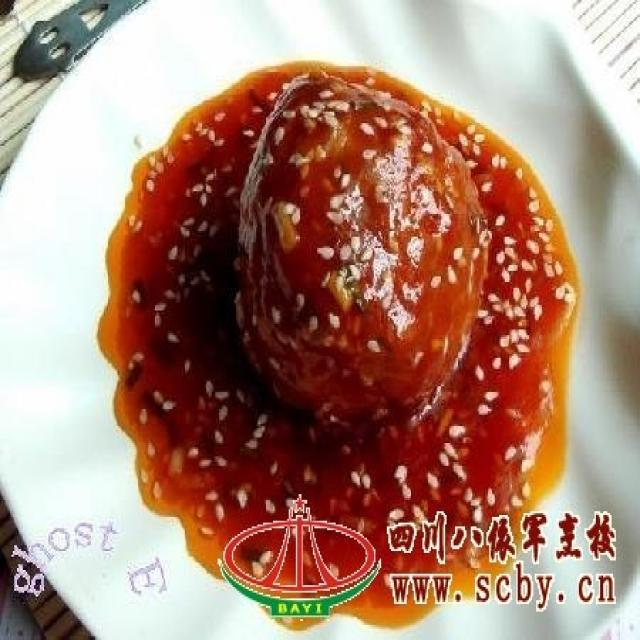Meatball: (229, 68, 493, 449)
